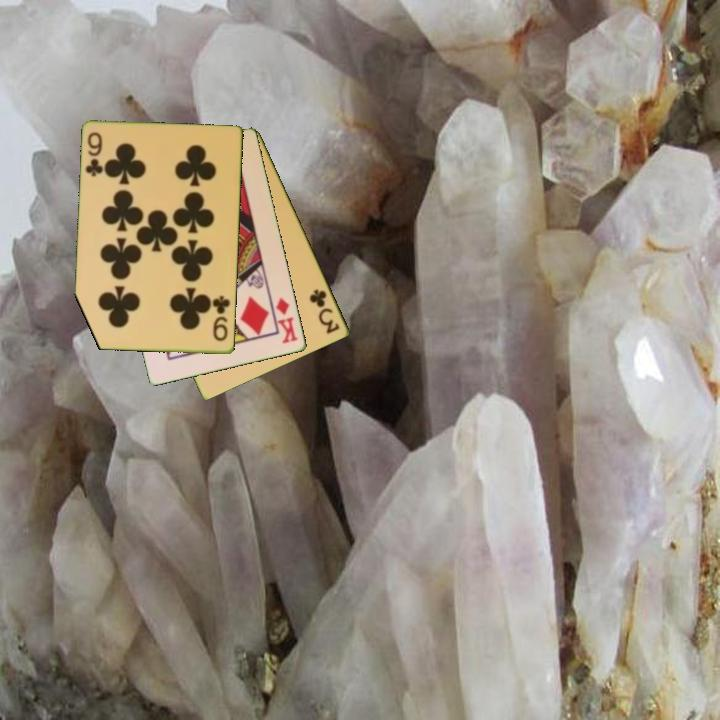3c: (306, 286, 343, 337)
9c: (82, 129, 106, 180), (210, 292, 233, 344)
Kd: (268, 294, 301, 346)
